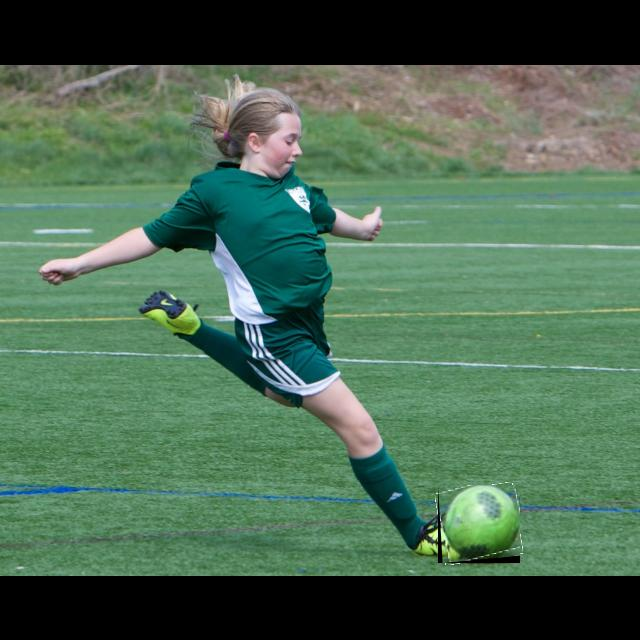Football: (438, 485, 520, 563)
